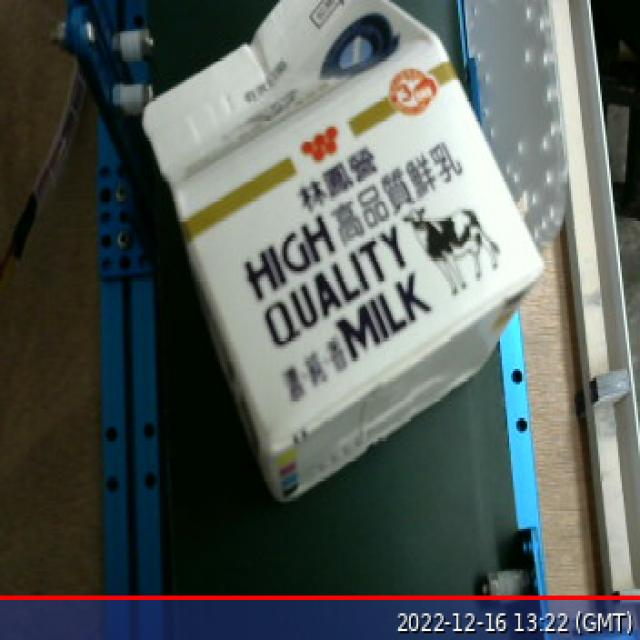non_white_jug: (126, 0, 555, 518)
